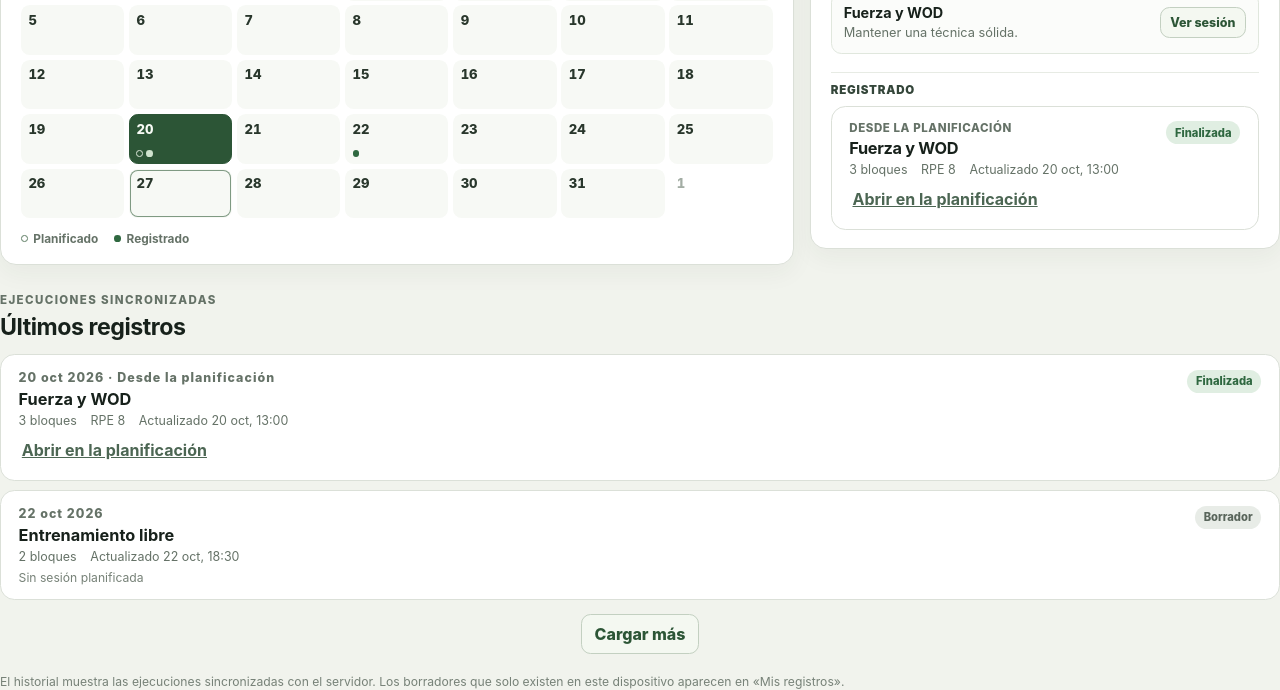
HistoryScreen › loads the next history page with the opaque cursor
(page scrolled)
Click the button "Cargar más" at (640, 634), box top-left (581, 614), bottom-right (699, 654)
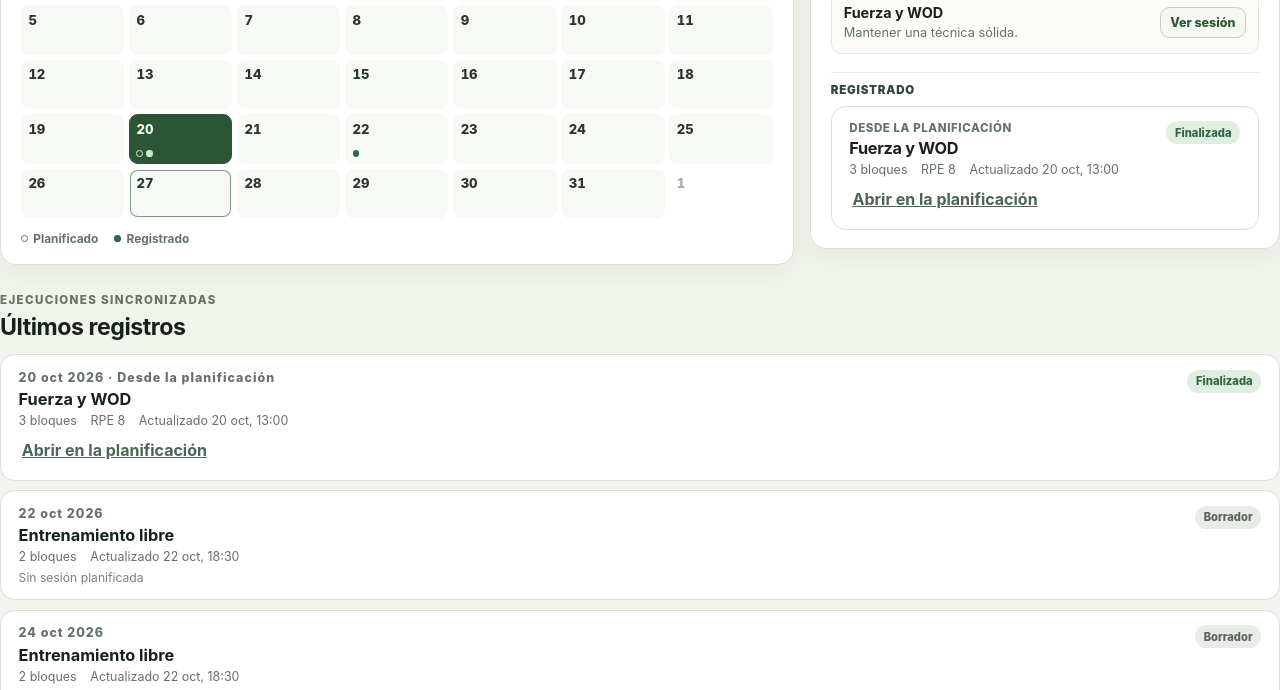
Now the text "24 oct" is shown, box top-left (19, 625), bottom-right (104, 640)
Now the button "Cargar más" is gone
